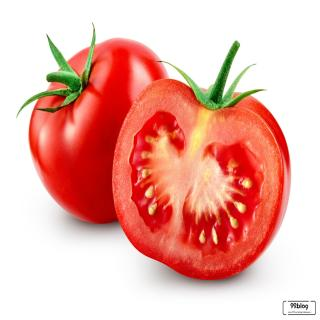Tomat: (18, 23, 171, 226)
